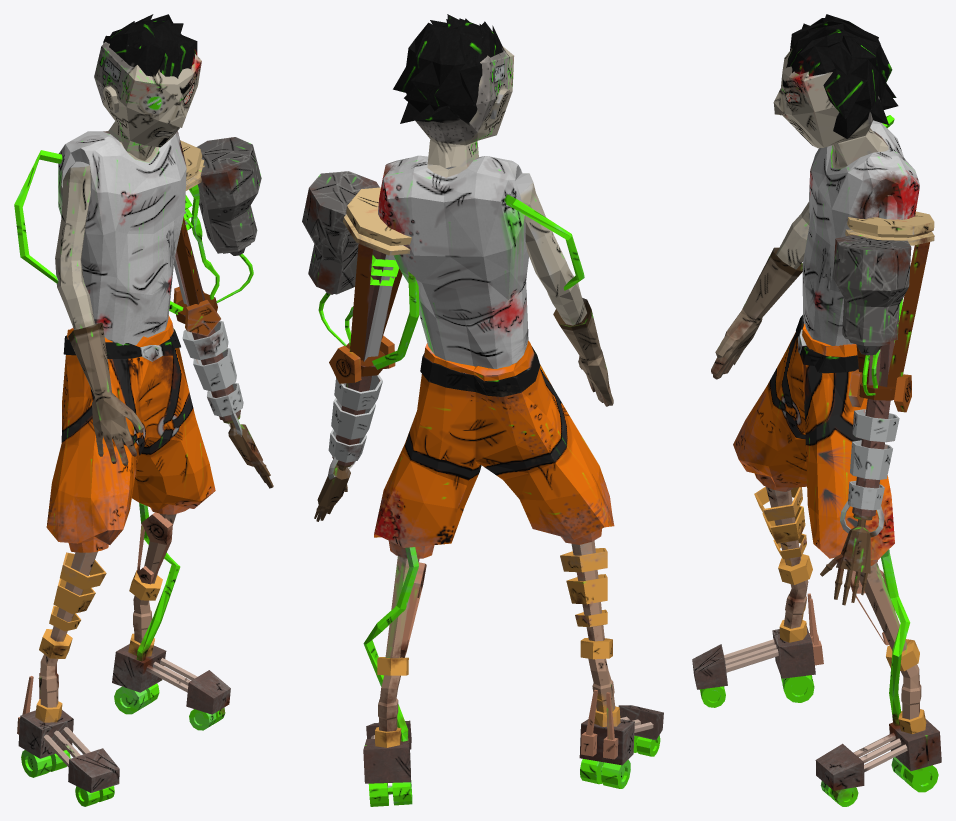
The model's file is CyborgFINALAnimation_000155.obj.
The picture shows the model from 3 angles, left to right: view 1: azimuth 30°, elevation 25°; view 2: azimuth 150°, elevation 25°; view 3: azimuth 270°, elevation 25°; orthographic projection. The views are drawn at different scales.
Parts seen in each view (by area): view 1: CyborgMesh_Cube.002; view 2: CyborgMesh_Cube.002; view 3: CyborgMesh_Cube.002.
Boxes of the visible parts, x1,y1,x2,y2 form: CyborgMesh_Cube.002: (14,14,273,806); CyborgMesh_Cube.002: (302,14,663,806); CyborgMesh_Cube.002: (692,14,941,806).
Bounding box in the file's own units: 3.78 × 9.69 × 2.92.
